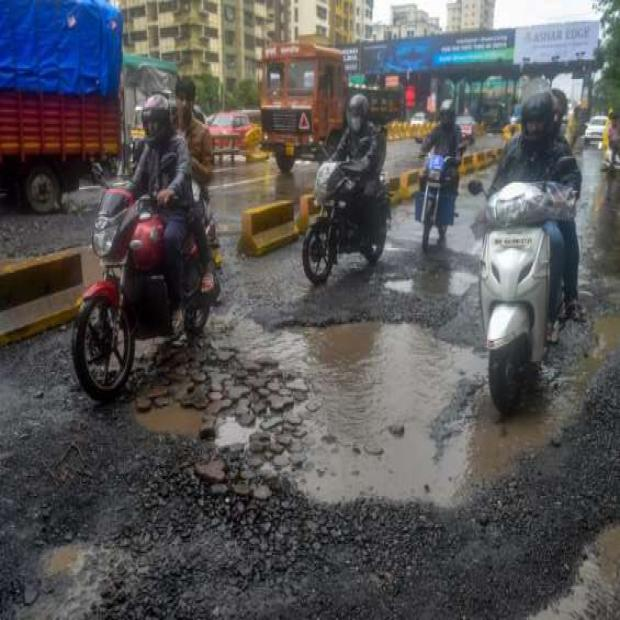lubang: (133, 304, 485, 546)
